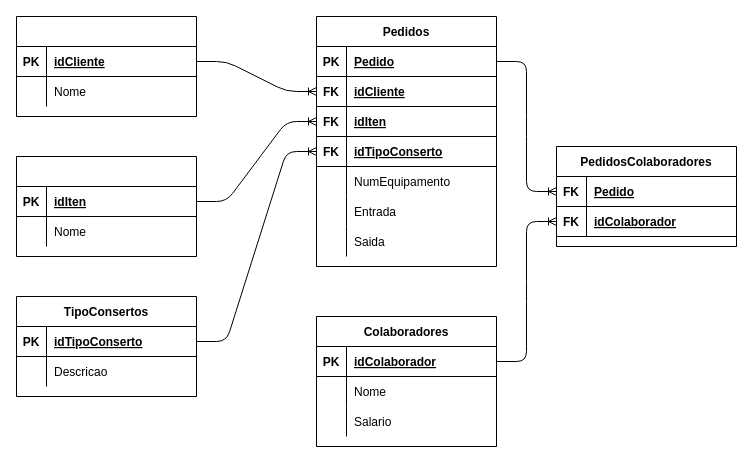
This 753x463 diagram has some shape labels left out. The shapes that lost their labels are listed below. From the top down, each one's box as (x1, y1, x2, y2) in pixels, then its label:
(16, 16, 196, 116): Clientes
(16, 156, 196, 256): Itens
